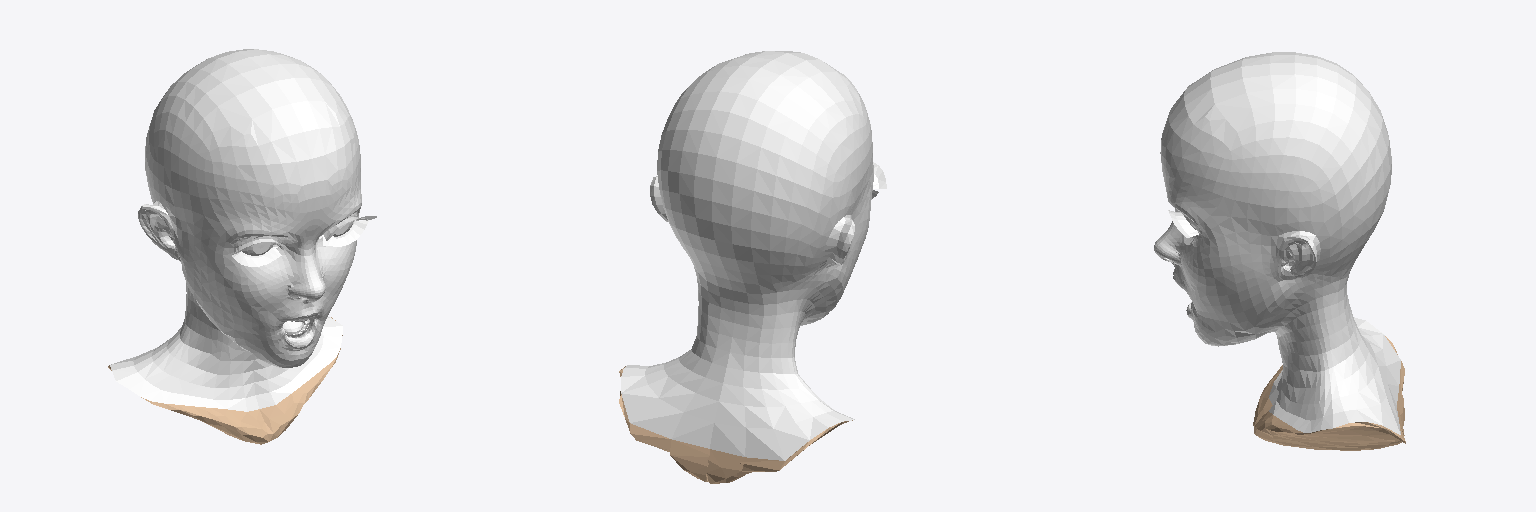
The model's file is O_SINGLE_WIDE.obj.
3 renders of one model, left to right at view 1: azimuth 30°, elevation 25°; view 2: azimuth 150°, elevation 25°; view 3: azimuth 270°, elevation 25°, orthographic.
Visible parts, largest first — view 1: Body, Eyelashes; view 2: Body; view 3: Body.
Part boxes in pixels (left/top/right/bottom): Body: left=110, top=49, right=361, bottom=411; Eyelashes: left=232, top=216, right=376, bottom=266; Body: left=621, top=51, right=873, bottom=460; Body: left=1154, top=52, right=1400, bottom=434.
Size of the model in its own units: 23 by 37.41 by 22.09.